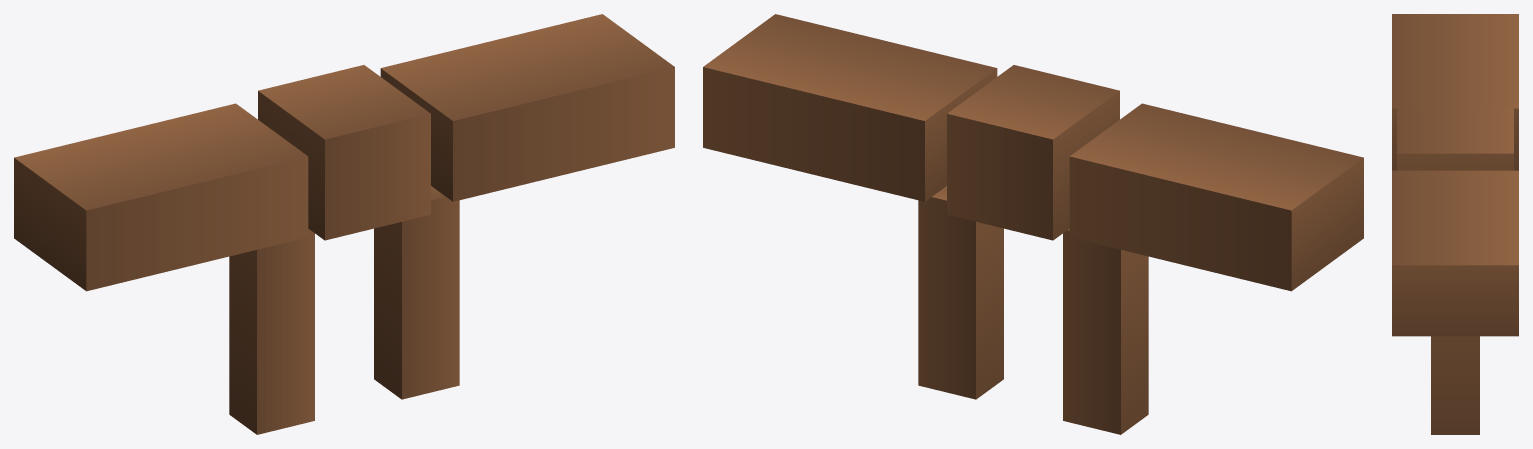
The model's file is ribbon_bow.fbx.
The picture shows the model from 3 angles, left to right: view 1: azimuth 30°, elevation 25°; view 2: azimuth 150°, elevation 25°; view 3: azimuth 270°, elevation 25°; orthographic projection. The views are drawn at different scales.
Parts seen in each view (by area): view 1: ribbon_bow; view 2: ribbon_bow; view 3: ribbon_bow.
Part boxes in pixels (x1,y1,x2,y2): ribbon_bow: [14, 14, 674, 434]; ribbon_bow: [703, 14, 1363, 434]; ribbon_bow: [1392, 14, 1518, 434].
Size of the model in its own units: 100 by 48.36 by 21.31.
